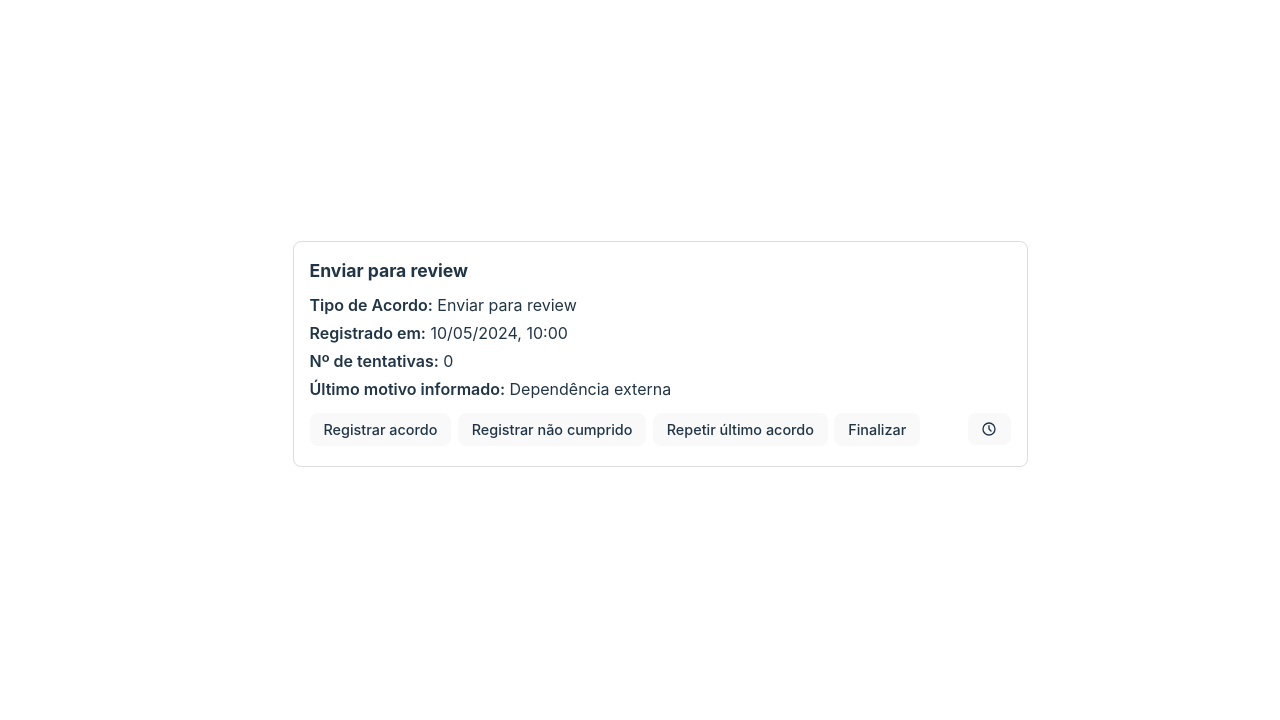
Test case: TaskCard › Repetir último acordo › abre o Modal_de_Motivo com o Ultimo_Motivo_Informado pré-selecionado
Step 1. Click the button with test id "task-card-repetir-ultimo-acordo" → {"x": 740, "y": 429}, box [653,412,828,446]
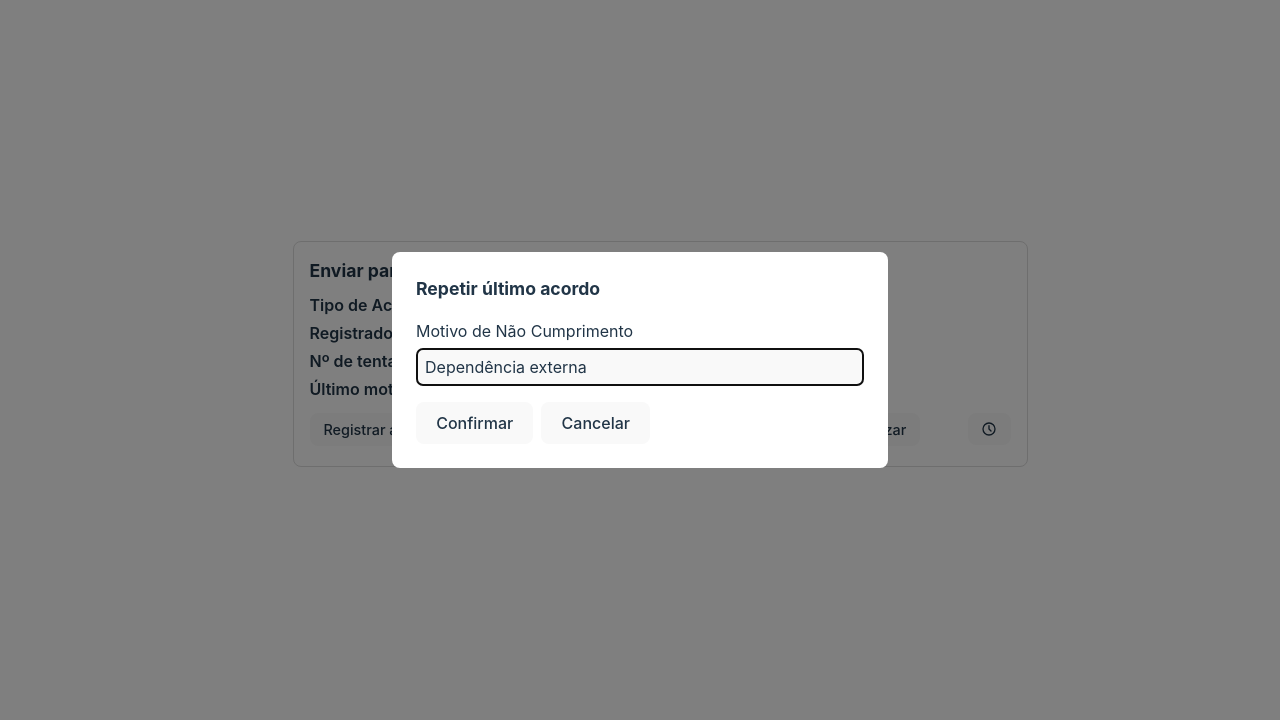
Expected: the field with test id "motivo-modal-combobox" holds "Dependência externa", [416,348,864,386]
